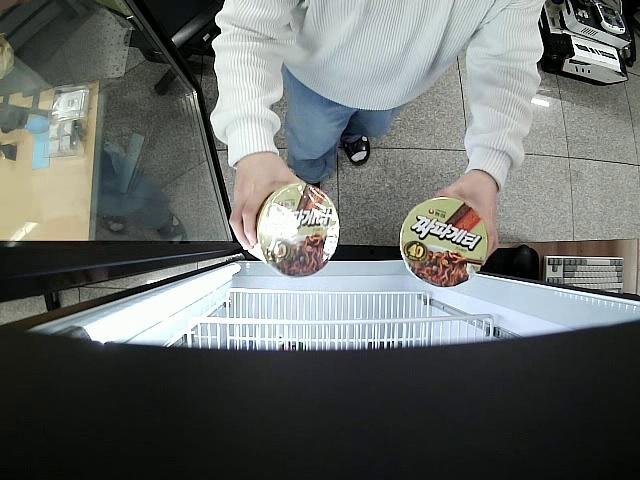00_hand: (228, 164, 306, 251), (430, 171, 501, 261)
03_chapagetti_L: (249, 184, 340, 276), (401, 197, 488, 288)
